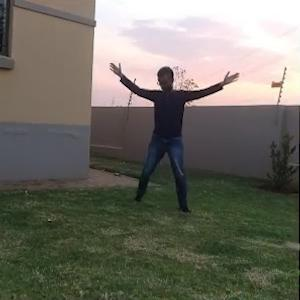takeoff: (112, 43, 252, 207)
